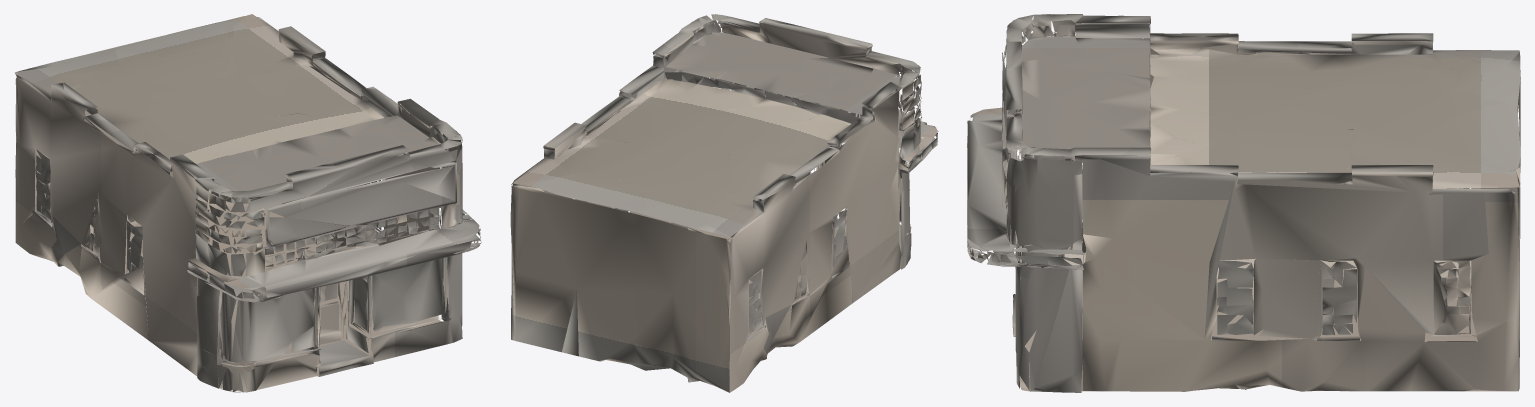
Rendered from storefront_sl.glb.
3 renders of one model, left to right at view 1: azimuth 30°, elevation 25°; view 2: azimuth 150°, elevation 25°; view 3: azimuth 270°, elevation 25°, orthographic. The views are drawn at different scales.
Parts seen in each view (by area): view 1: LO.001; view 2: LO.001; view 3: LO.001.
Boxes of the visible parts, bbox=[...] form: LO.001: bbox=[14, 14, 481, 392]; LO.001: bbox=[510, 14, 938, 392]; LO.001: bbox=[967, 14, 1520, 392].
Bounding box in the file's own units: 7.75 × 5.91 × 12.
1 material, 1 textured.
